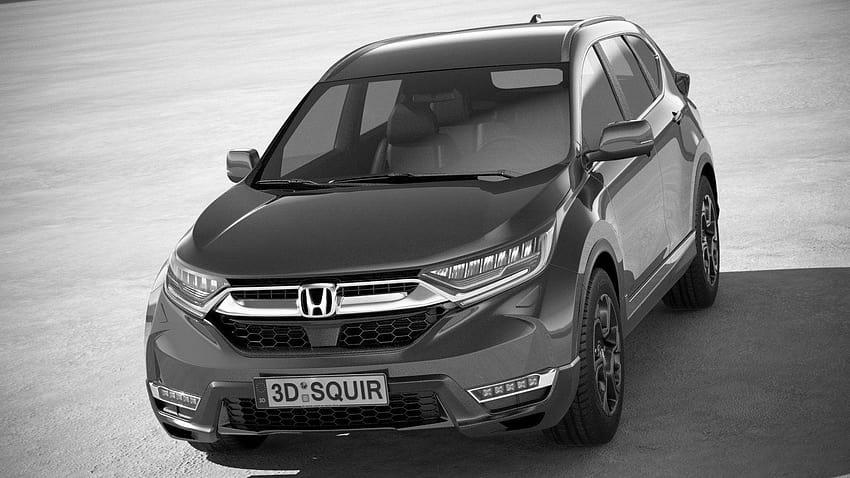Car hood: (168, 158, 574, 283)
Fender - -F-L-: (546, 149, 625, 326)
Fender - -R-L-: (687, 100, 719, 221)
Front bumper: (136, 276, 594, 450)
Headlight - -L-: (420, 216, 558, 306)
Headlight - -R-: (154, 248, 235, 323)
Passenger-s door - -F-L-: (576, 32, 667, 306)
Passenger-s door - -R-L-: (635, 32, 694, 293)
Rear light - -L-: (667, 57, 699, 104)
Side bumper - -L-: (618, 226, 707, 345)
Side mirror - -L-: (572, 113, 659, 176)
Side mirror - -R-: (219, 141, 261, 187)
